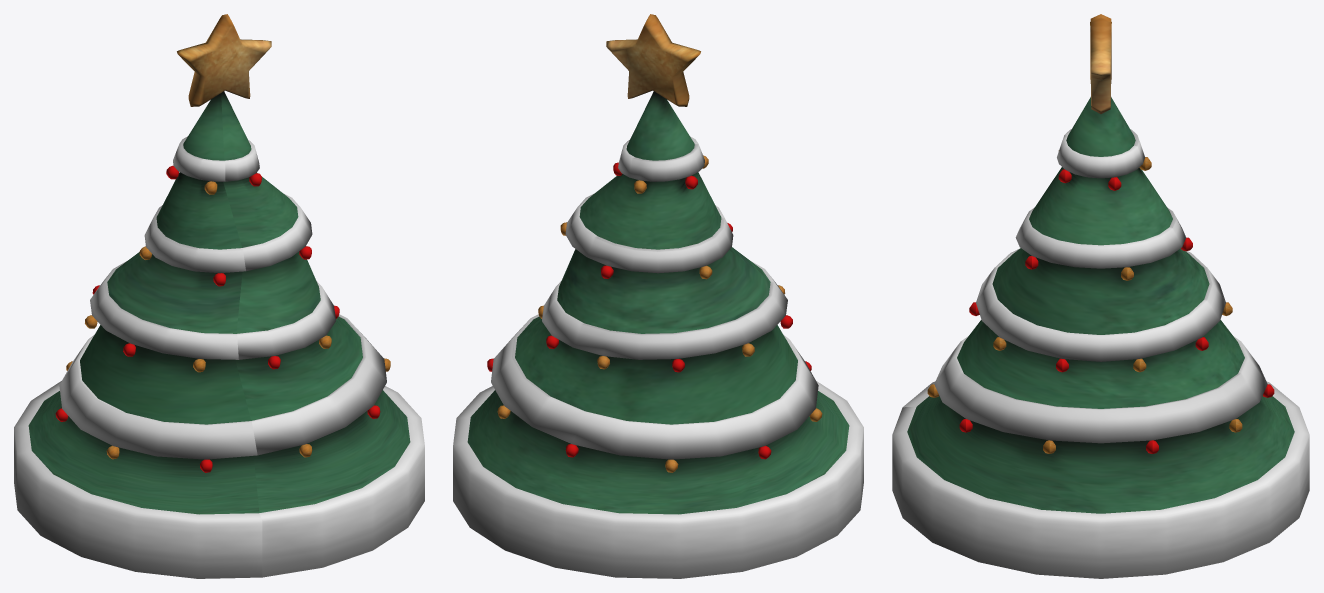
Rendered from ChristmasTree.glb.
3 renders of one model, left to right at view 1: azimuth 30°, elevation 25°; view 2: azimuth 150°, elevation 25°; view 3: azimuth 270°, elevation 25°, orthographic.
Parts seen in each view (by area): view 1: Asset3DLoader.sceneRoot; view 2: Asset3DLoader.sceneRoot; view 3: Asset3DLoader.sceneRoot.
Part boxes in pixels (x1,y1,x2,y2): Asset3DLoader.sceneRoot: (14, 14, 424, 578); Asset3DLoader.sceneRoot: (453, 14, 863, 578); Asset3DLoader.sceneRoot: (892, 14, 1309, 578).
Bounding box in the file's own units: 1.39 × 1.76 × 1.39.
1 material, 1 textured.
